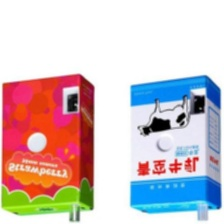carton: (0, 68, 105, 218), (126, 69, 224, 220)
